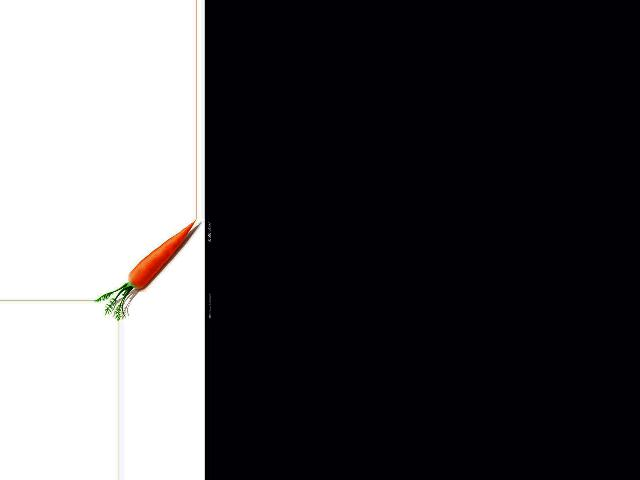carrot: (109, 221, 198, 298)
